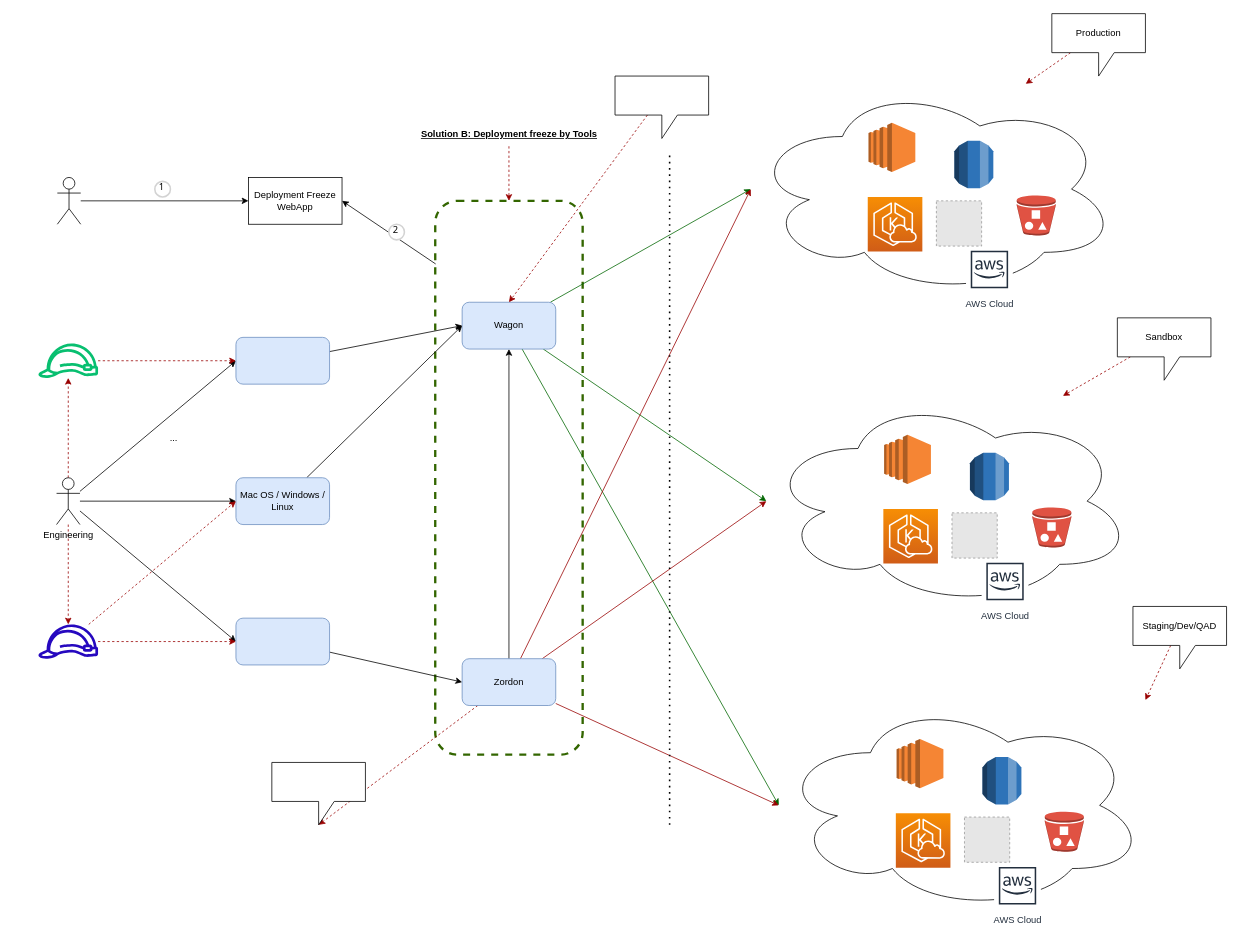
This 1240x939 diagram has some shape labels left out. Grey dashed boxes stand in for pictures. Here are the shapes that lost their labels. From the top down, the centre of each, then its label:
At (661,106): "ECS Deployment , 85% services".
At (69,200): "Release Amin".
At (67,360): "Jenkins cross account role".
At (282,360): "Jenkins pipeline".
At (67,641): "Engineering role".
At (282,641): "Gitlab".
At (318,793): "EKS deployment, 15% services".
